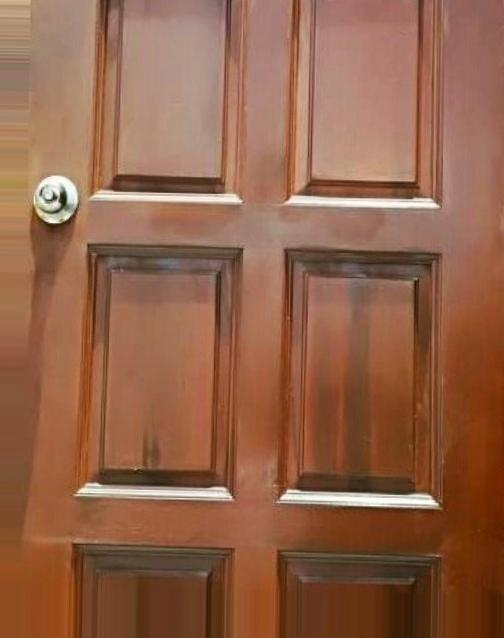door: (2, 0, 504, 638)
